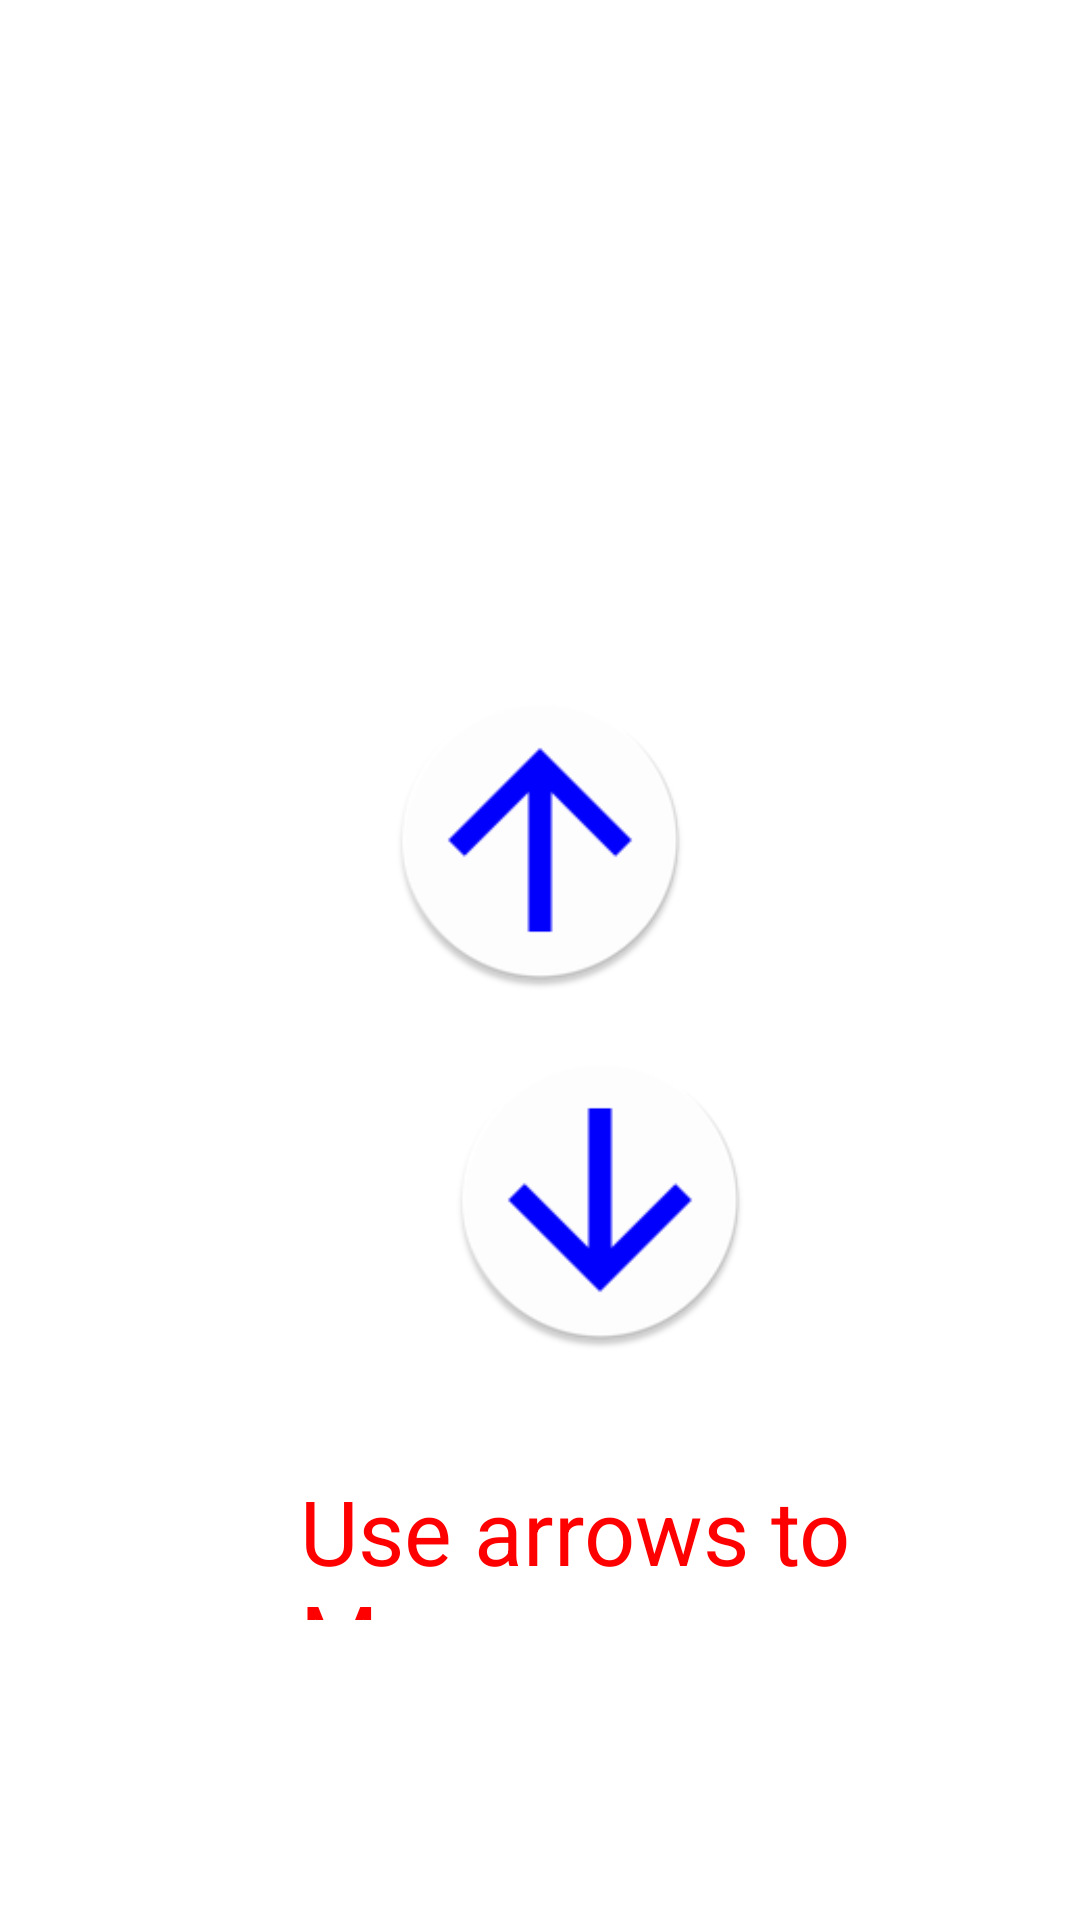

Icons on this 1080 × 1920 Android screen, each with its box as (x1, y1, x2, y2):
Down Arrow: (465, 1107, 739, 1345)
up arrow: (405, 748, 679, 985)
